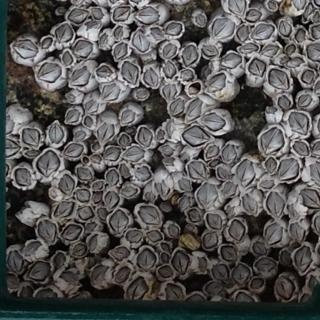Barnacle: (260, 127, 284, 155), (196, 182, 219, 209), (37, 150, 59, 176), (183, 124, 210, 145), (127, 275, 148, 300), (278, 157, 300, 180), (27, 259, 51, 280), (288, 111, 308, 136), (294, 245, 313, 271), (211, 18, 234, 39), (171, 250, 190, 275), (266, 192, 285, 217), (109, 208, 127, 234), (267, 68, 289, 89), (136, 248, 156, 271), (202, 111, 225, 131), (38, 62, 62, 81), (135, 6, 159, 25), (12, 40, 37, 58), (300, 188, 320, 210), (137, 205, 160, 224), (276, 275, 293, 300), (231, 263, 250, 285), (264, 223, 283, 245), (57, 173, 76, 195), (236, 159, 252, 185), (122, 145, 146, 162), (71, 66, 90, 87), (37, 220, 55, 242), (121, 62, 139, 84), (185, 97, 202, 120), (164, 281, 183, 301), (207, 72, 226, 92), (247, 57, 267, 76), (100, 83, 121, 101), (72, 40, 93, 58), (228, 219, 245, 241), (250, 24, 273, 40), (97, 121, 115, 141), (55, 23, 73, 43), (7, 250, 24, 271), (61, 224, 82, 241), (133, 30, 150, 51), (201, 231, 219, 250), (187, 162, 206, 180), (59, 270, 80, 286), (53, 201, 74, 217), (205, 211, 222, 230), (91, 264, 107, 284), (289, 220, 305, 240), (182, 45, 198, 65), (255, 258, 276, 273), (221, 53, 242, 68), (114, 265, 132, 282), (22, 127, 39, 145), (242, 194, 258, 213), (64, 143, 83, 159), (308, 162, 320, 187), (221, 144, 236, 164), (49, 123, 64, 143), (67, 8, 87, 23), (144, 66, 158, 87), (306, 41, 320, 62), (14, 168, 31, 185), (211, 264, 229, 280), (219, 245, 237, 261), (4, 138, 20, 156), (104, 191, 119, 210), (161, 59, 176, 78), (112, 6, 131, 21), (235, 292, 256, 305), (228, 0, 245, 16), (24, 240, 42, 255), (137, 127, 152, 145), (204, 280, 223, 294), (2, 115, 15, 135), (113, 246, 130, 261), (154, 180, 169, 197), (36, 288, 59, 299), (293, 140, 308, 156), (125, 229, 142, 243), (104, 147, 121, 161), (170, 98, 184, 115), (162, 83, 176, 100), (165, 22, 182, 36), (19, 285, 34, 300), (221, 182, 236, 197), (77, 206, 93, 220), (156, 265, 173, 278), (178, 194, 191, 211), (95, 65, 112, 78), (114, 42, 127, 59), (306, 274, 318, 292), (261, 44, 279, 56), (201, 43, 219, 55), (120, 110, 135, 124), (84, 99, 99, 113), (150, 26, 164, 41), (52, 252, 65, 268), (286, 201, 299, 217), (236, 25, 249, 41), (196, 256, 208, 273), (279, 19, 291, 36), (302, 3, 314, 20), (165, 119, 176, 137), (72, 243, 86, 257), (252, 241, 266, 255), (177, 177, 191, 191), (77, 167, 92, 180), (298, 93, 313, 106), (301, 69, 314, 84), (106, 169, 118, 185), (264, 157, 276, 173), (188, 209, 201, 223), (163, 43, 176, 57), (246, 9, 260, 22), (146, 229, 161, 241), (61, 50, 72, 66), (206, 145, 219, 158), (278, 95, 291, 108), (181, 69, 194, 82), (5, 273, 17, 287), (77, 189, 89, 203), (67, 108, 79, 122), (239, 43, 257, 52), (281, 250, 291, 266), (88, 234, 98, 250), (166, 223, 178, 236), (84, 221, 97, 233), (216, 167, 228, 180), (249, 278, 263, 289), (92, 6, 103, 20), (311, 23, 320, 40), (122, 186, 137, 196), (160, 145, 175, 155), (258, 180, 274, 189), (97, 208, 107, 222), (119, 164, 129, 178), (292, 0, 306, 10), (159, 201, 171, 212), (285, 43, 296, 55), (225, 203, 235, 216), (92, 192, 102, 205), (296, 27, 305, 41), (74, 129, 85, 140), (119, 134, 129, 146), (42, 36, 52, 48), (194, 13, 204, 25), (289, 57, 302, 66), (99, 33, 108, 46), (114, 26, 123, 39), (91, 180, 103, 189), (90, 155, 102, 164), (311, 142, 320, 154), (267, 1, 277, 11), (164, 157, 175, 166), (265, 104, 276, 113), (86, 21, 99, 28), (160, 241, 170, 250), (144, 192, 154, 201), (161, 252, 169, 263), (49, 188, 57, 199), (84, 116, 92, 127), (25, 150, 39, 156), (157, 128, 164, 140), (92, 143, 100, 152), (137, 90, 146, 98)
